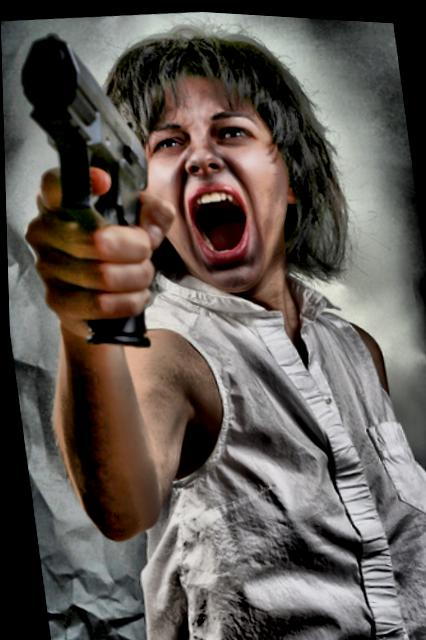pistol: (11, 24, 170, 355)
